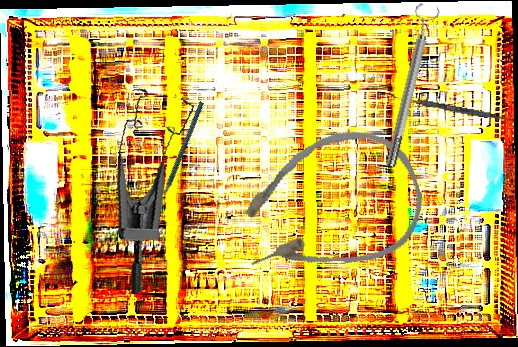Cannula: (220, 113, 437, 298)
Chopper: (127, 100, 237, 218)
Fixation Ring: (376, 2, 443, 169)
Spatula Surgical: (389, 93, 517, 124)
Speculum: (91, 78, 227, 295)
